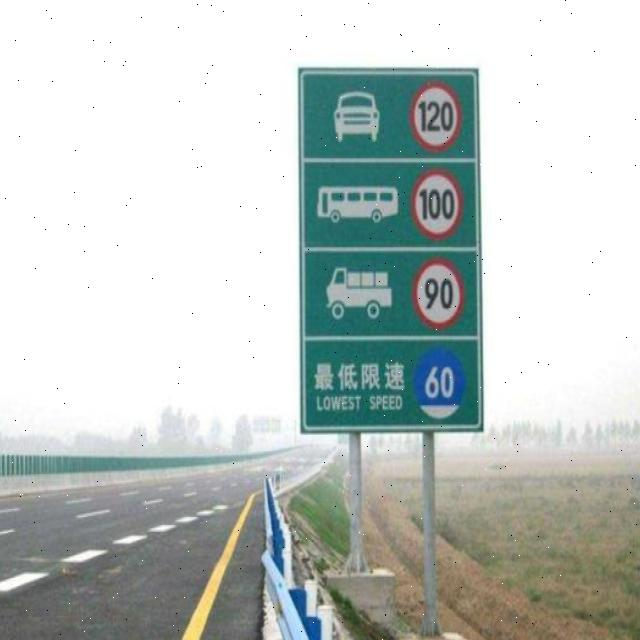speed limit 100: (411, 171, 463, 240)
speed limit 120: (410, 81, 465, 152)
speed limit 60: (414, 344, 464, 420)
speed limit 90: (412, 257, 465, 330)
